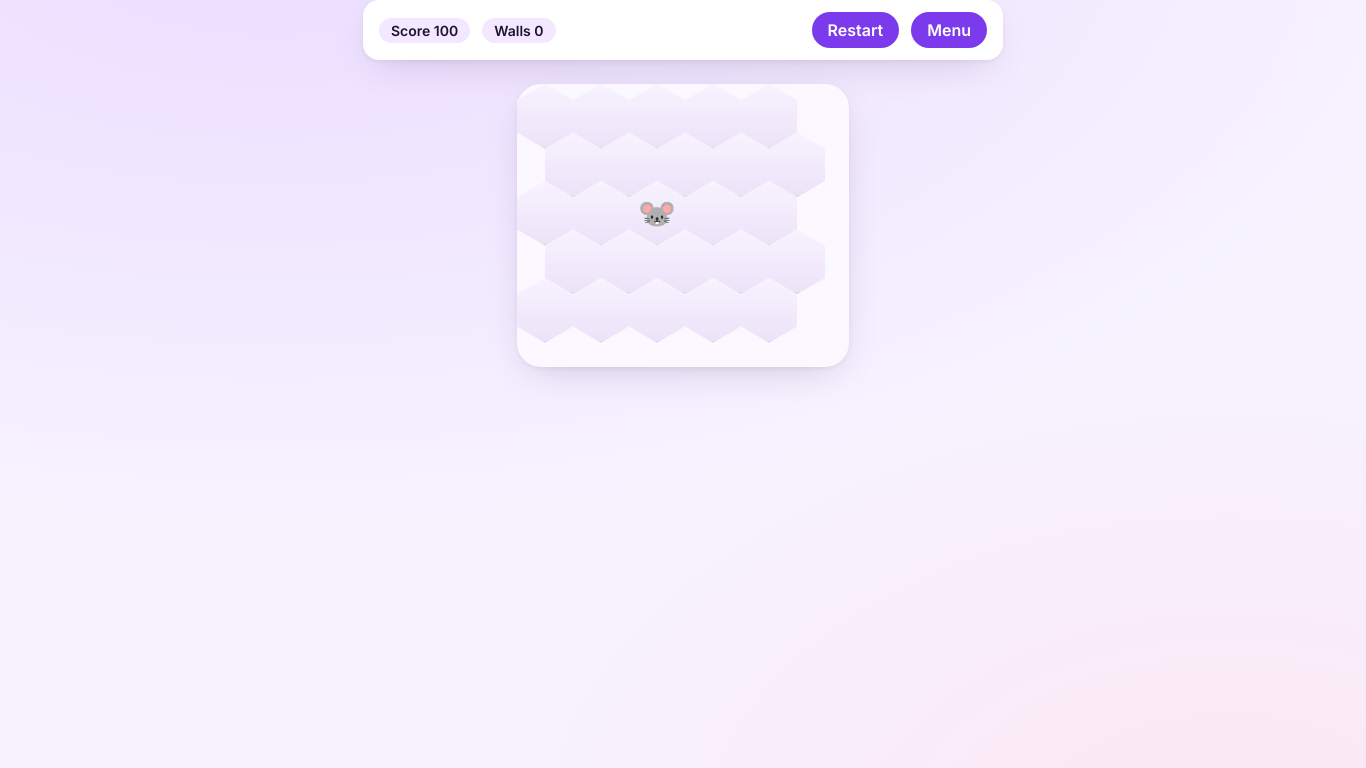
Test: <Game /> › ends with a banner when the mouse reaches an edge
Click the cell named "Empty cell" at (545, 116), box left=517, top=84, right=573, bottom=149
Wait 500 ms
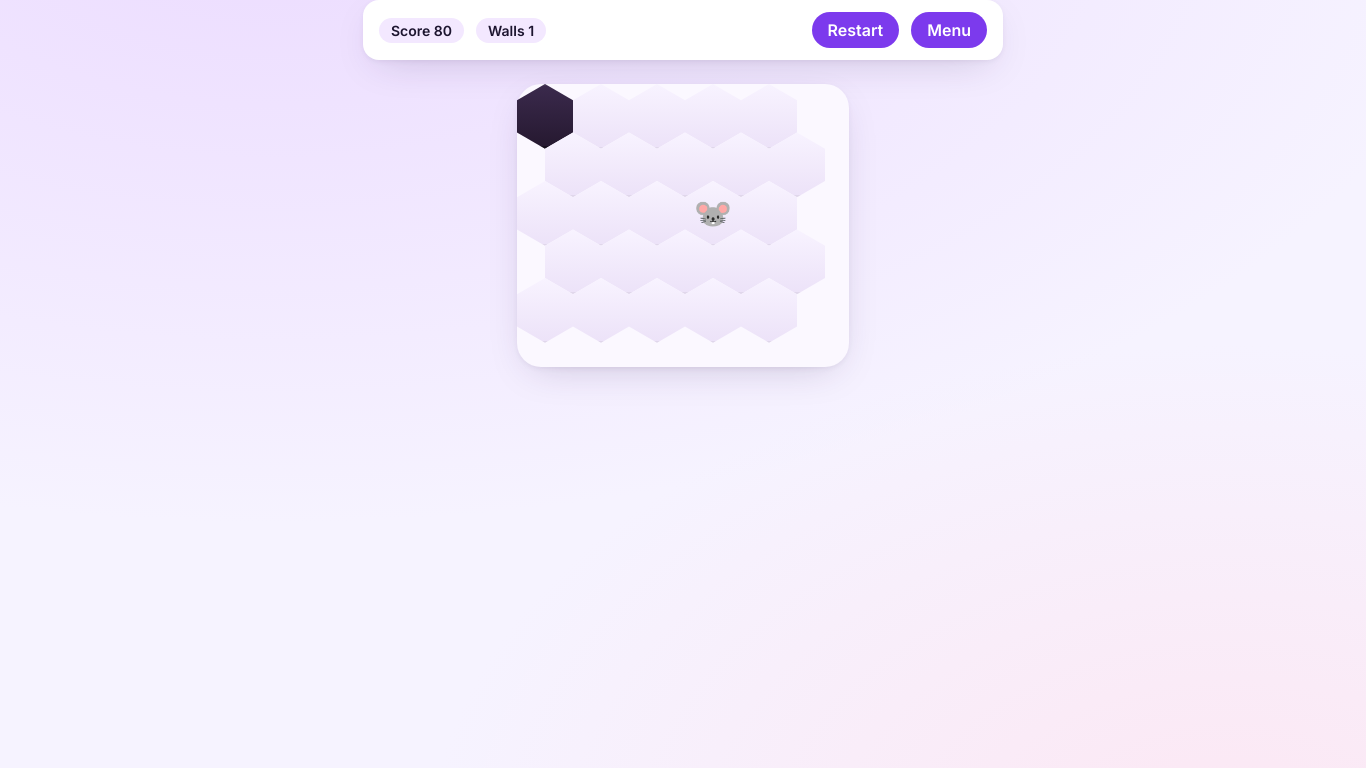
Click the cell named "Empty cell" at (601, 116), box left=573, top=84, right=629, bottom=149
Wait 500 ms
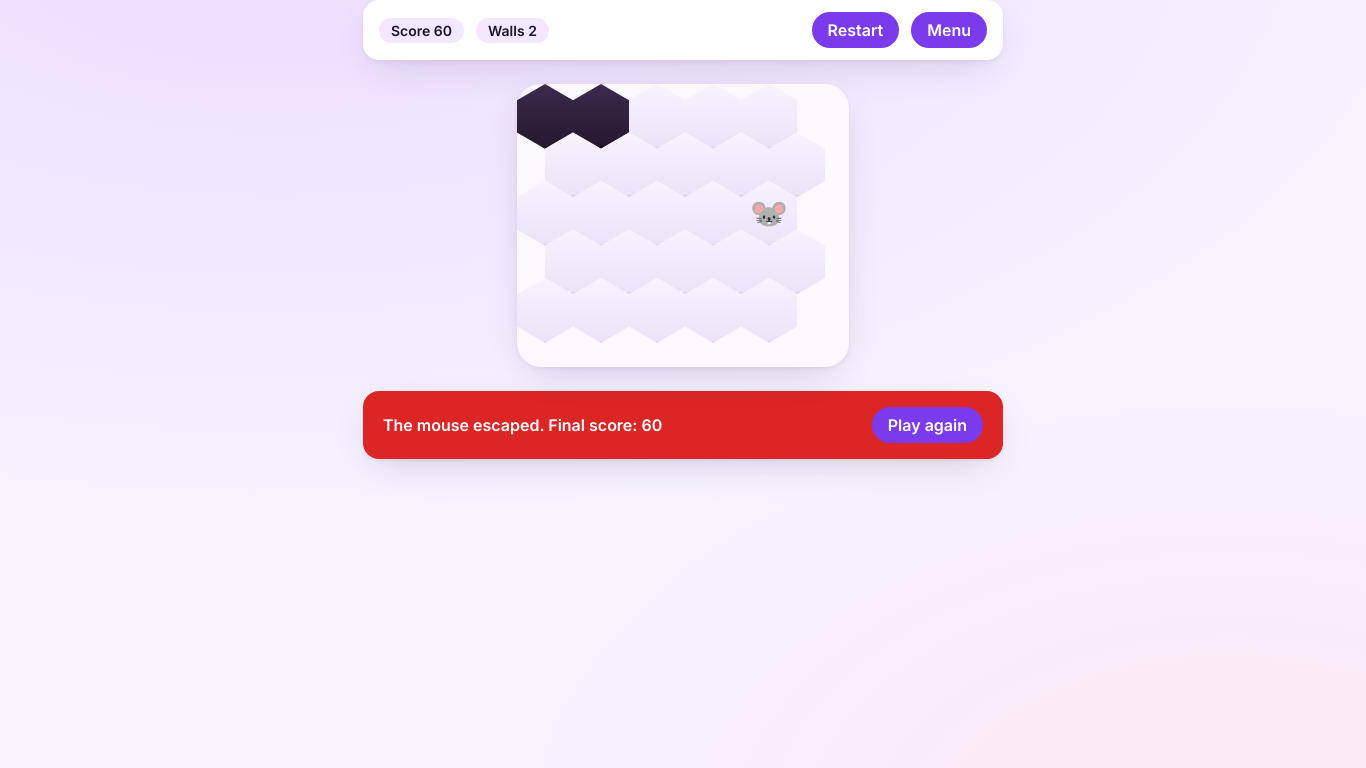
Result: the message "The mouse escaped. Final score: 60 Play again" is shown at left=363, top=391, right=1003, bottom=459
